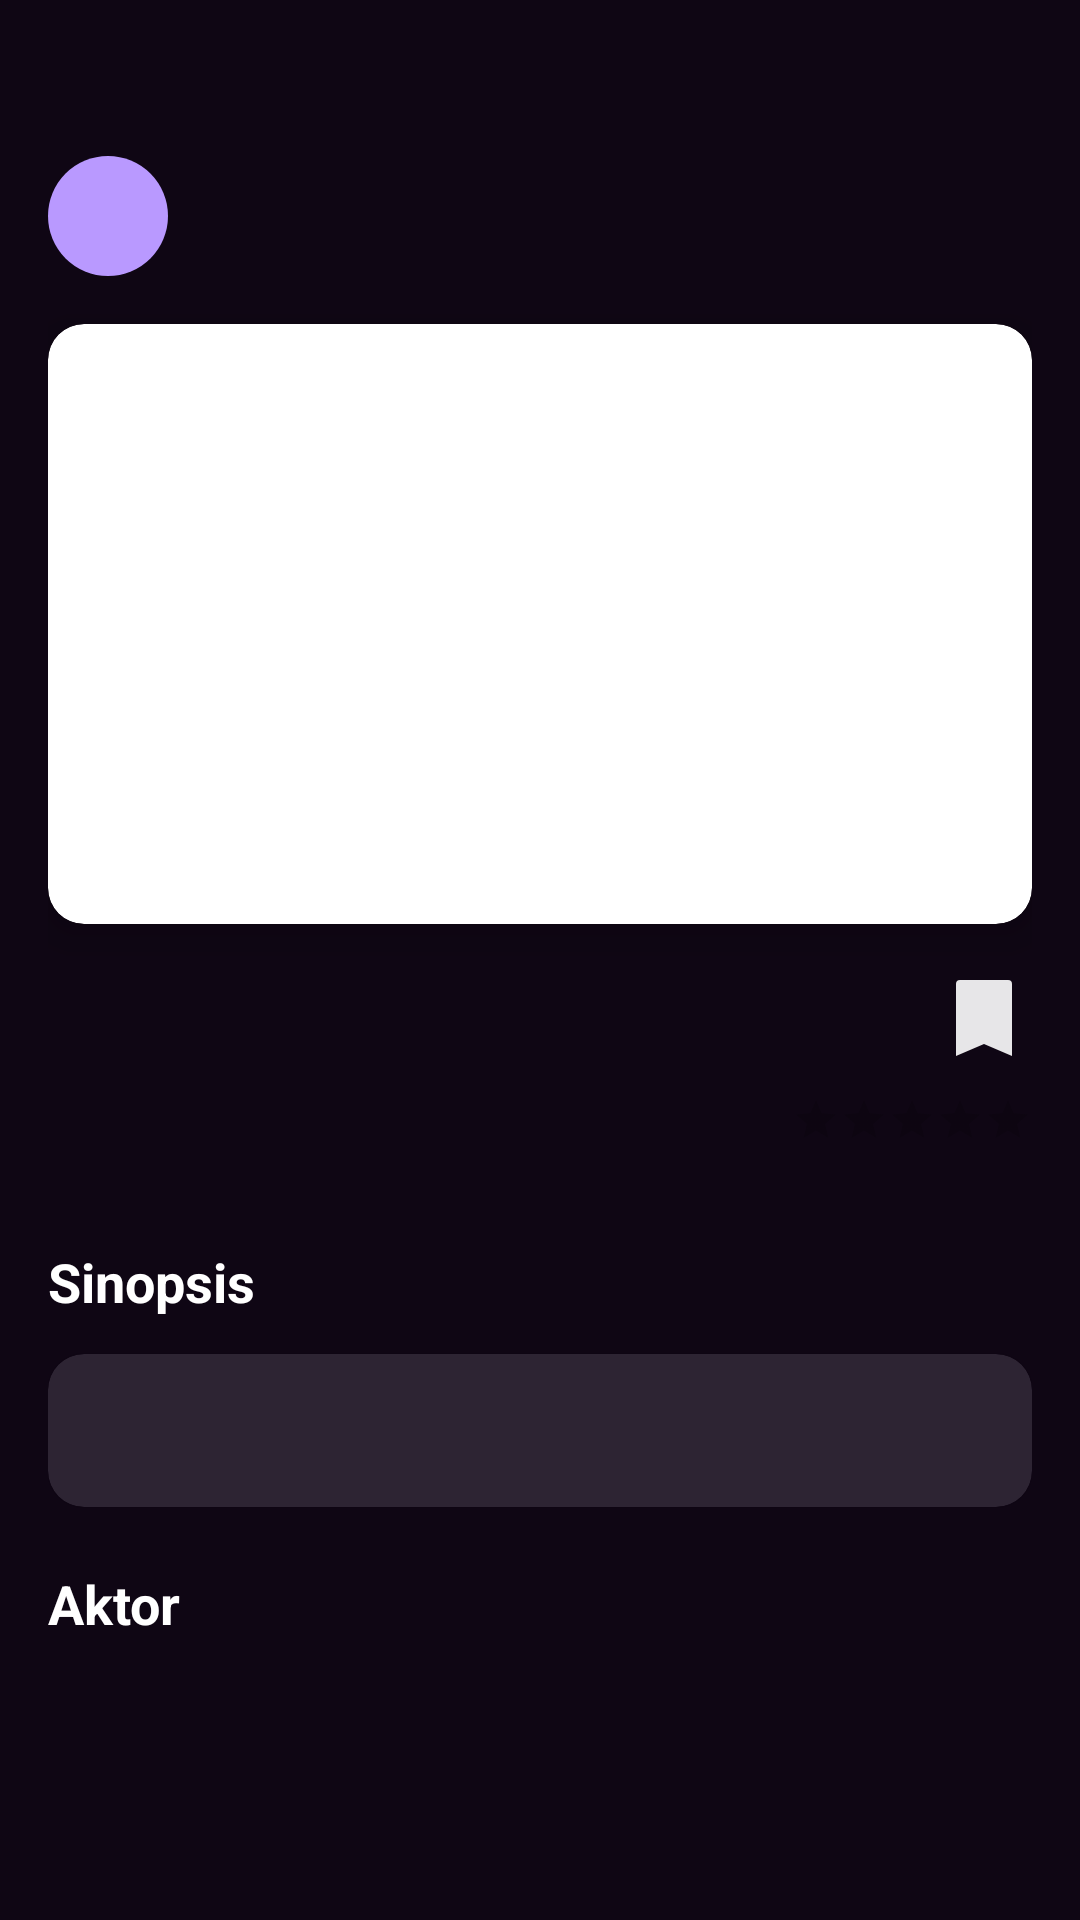

Screen size 1080px x 1920px. Icon name, then its center in pixels as [x,y]:
Bookmark: [984,1018]
